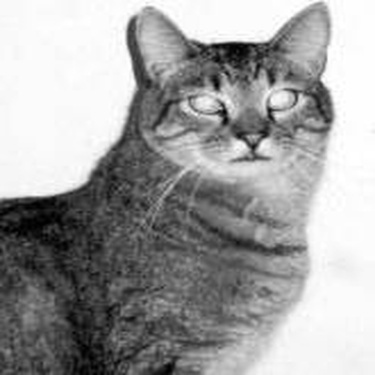cat: (1, 2, 335, 372)
